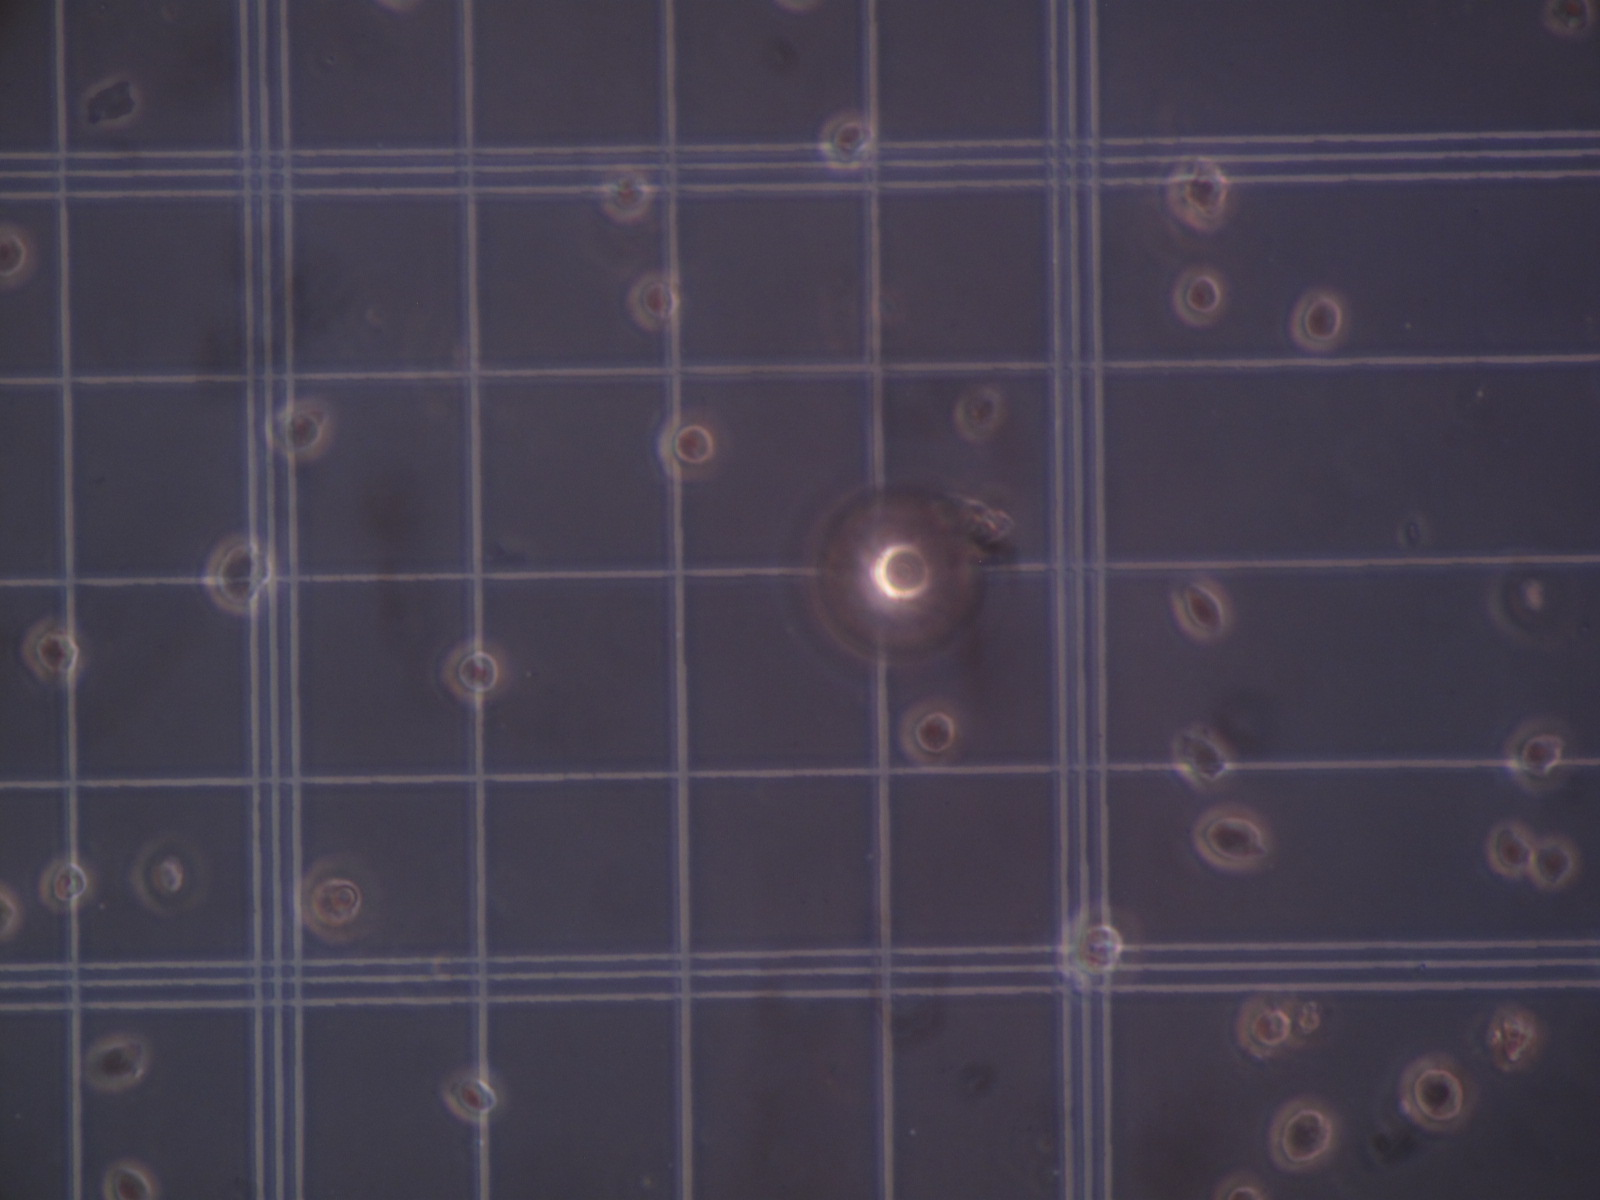hemo: (1056, 903, 1144, 995), (299, 853, 380, 944), (1398, 1053, 1475, 1132), (202, 534, 276, 614), (1267, 1095, 1340, 1172), (1192, 803, 1270, 871), (1503, 717, 1569, 794), (1167, 154, 1232, 231), (656, 408, 724, 482), (441, 639, 510, 705), (129, 839, 186, 915), (900, 698, 964, 766), (267, 398, 334, 463), (1170, 726, 1233, 794), (1170, 575, 1232, 642), (83, 1034, 152, 1092), (21, 616, 81, 683), (1289, 287, 1348, 352), (1487, 1006, 1545, 1071), (440, 1066, 505, 1124), (1235, 998, 1294, 1060), (818, 111, 876, 171), (1170, 267, 1227, 326), (626, 271, 680, 332), (82, 74, 141, 129), (38, 857, 94, 913), (600, 165, 651, 223), (952, 386, 1004, 442), (1487, 821, 1534, 877), (1529, 836, 1579, 890), (1, 222, 35, 290), (102, 1158, 157, 1199), (1543, 1, 1595, 37), (1214, 1172, 1267, 1200), (1, 880, 23, 948)
